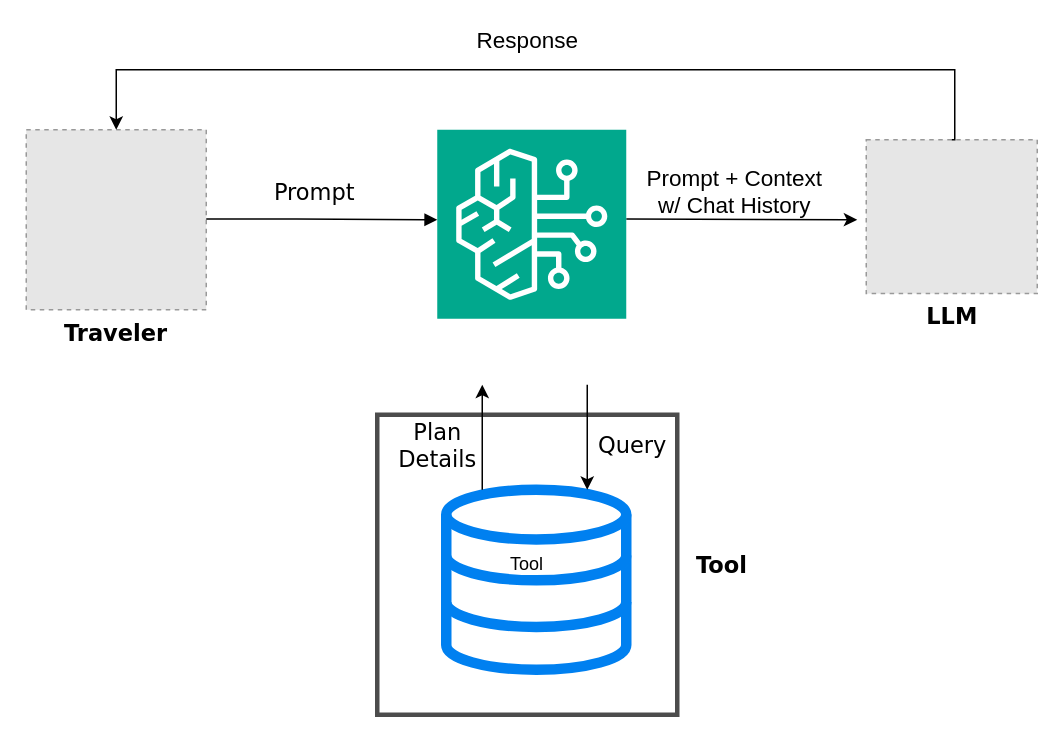
Image size: 1064x743. Some labels were removed from this diagram. Grey dashed boxes stand in for pictures. The centre of each missing label's shape, as x and y in pixels:
"Agent Decide whether to RAG" goes at point (531, 223).
"Vector Store" goes at point (535, 579).
